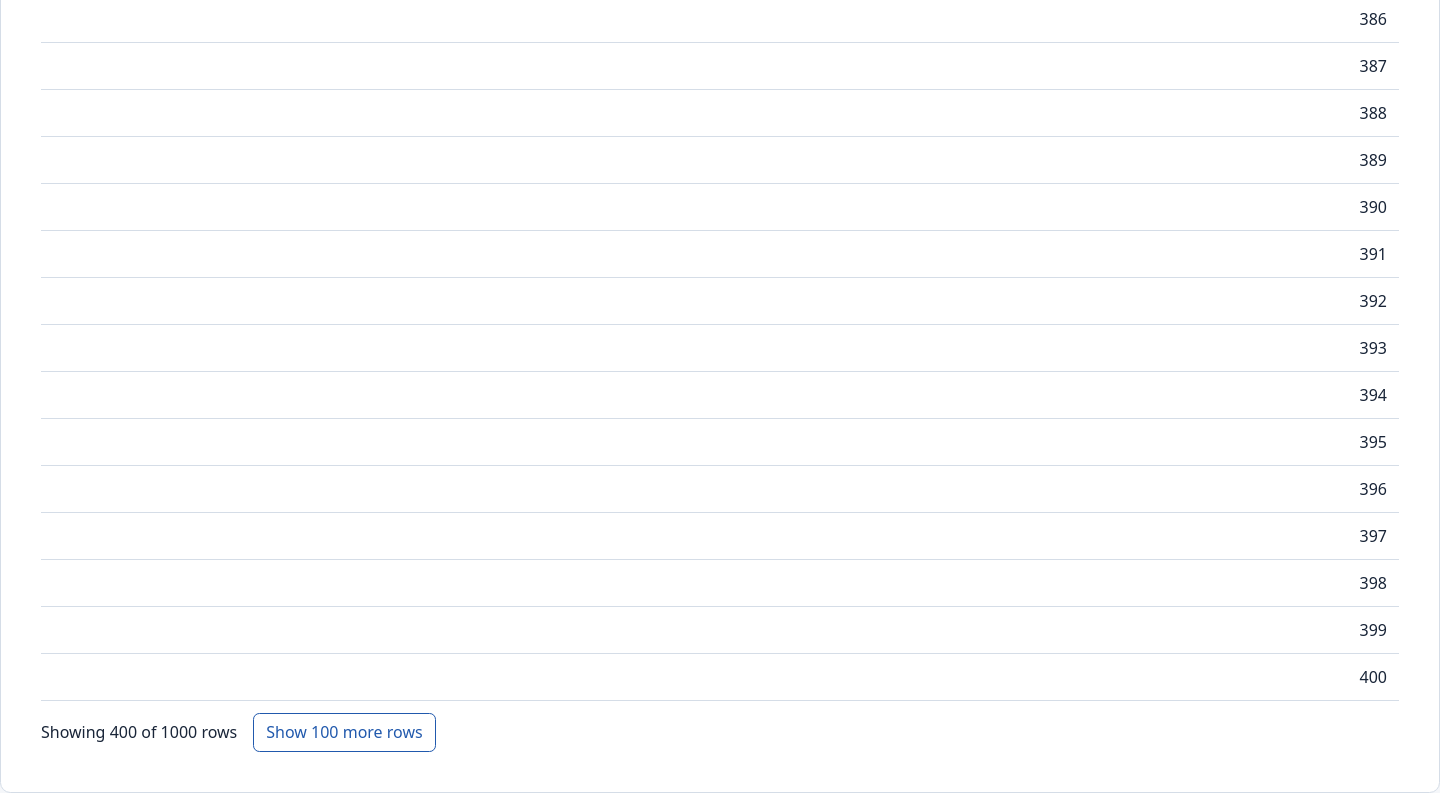
Test: table rendering › mounts just the requested batches up to the 1,000-row limit in file order
Earlier steps of the test are not shown.
(page scrolled)
Click the button "Show 100 more rows". click: (344, 732)
box: [253,713,436,752]
(page scrolled)
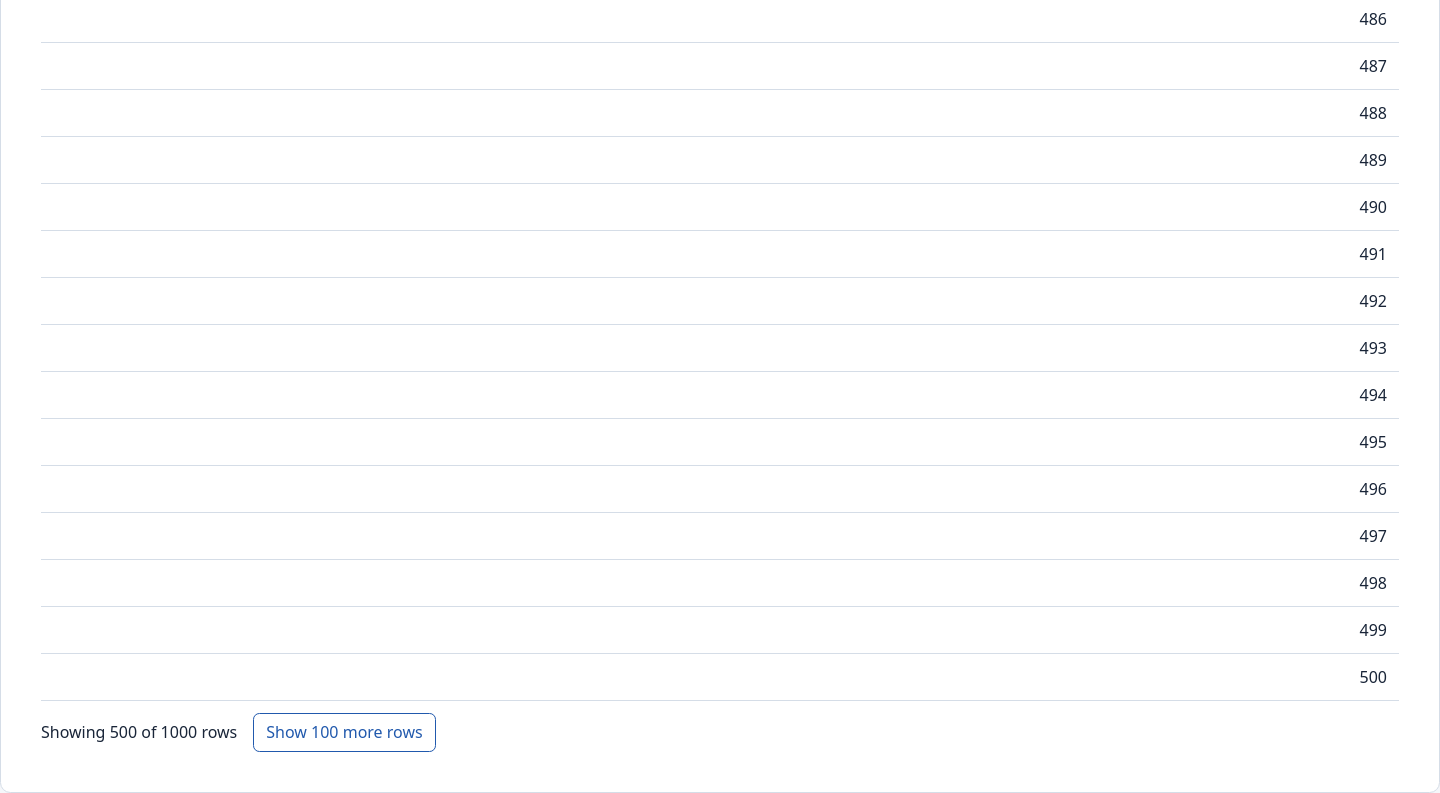
Click the button "Show 100 more rows". click: (344, 732)
box: [253,713,436,752]
(page scrolled)
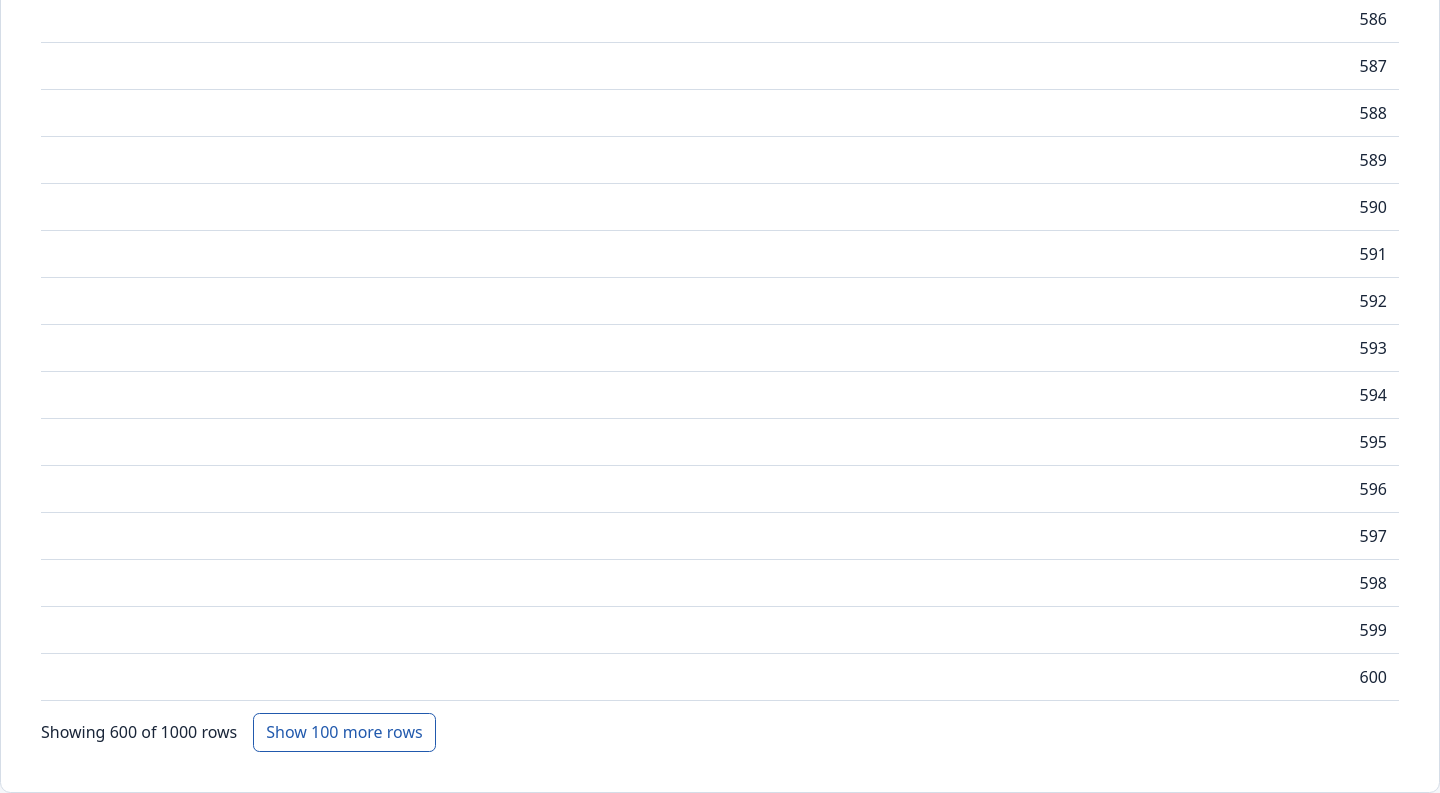
Click the button "Show 100 more rows". click: (344, 732)
box: [253,713,436,752]
(page scrolled)
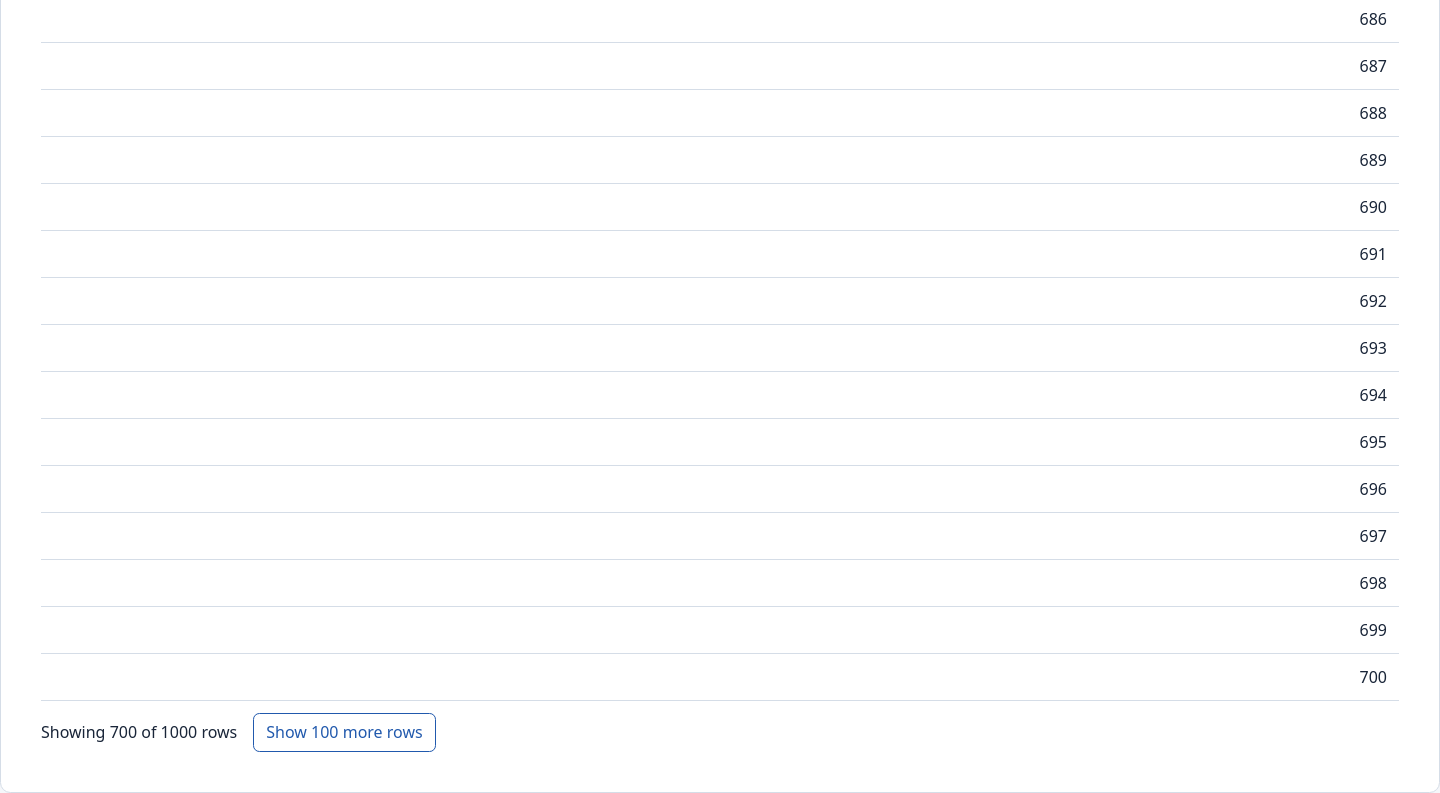
Click the button "Show 100 more rows". click: (344, 732)
box: [253,713,436,752]
(page scrolled)
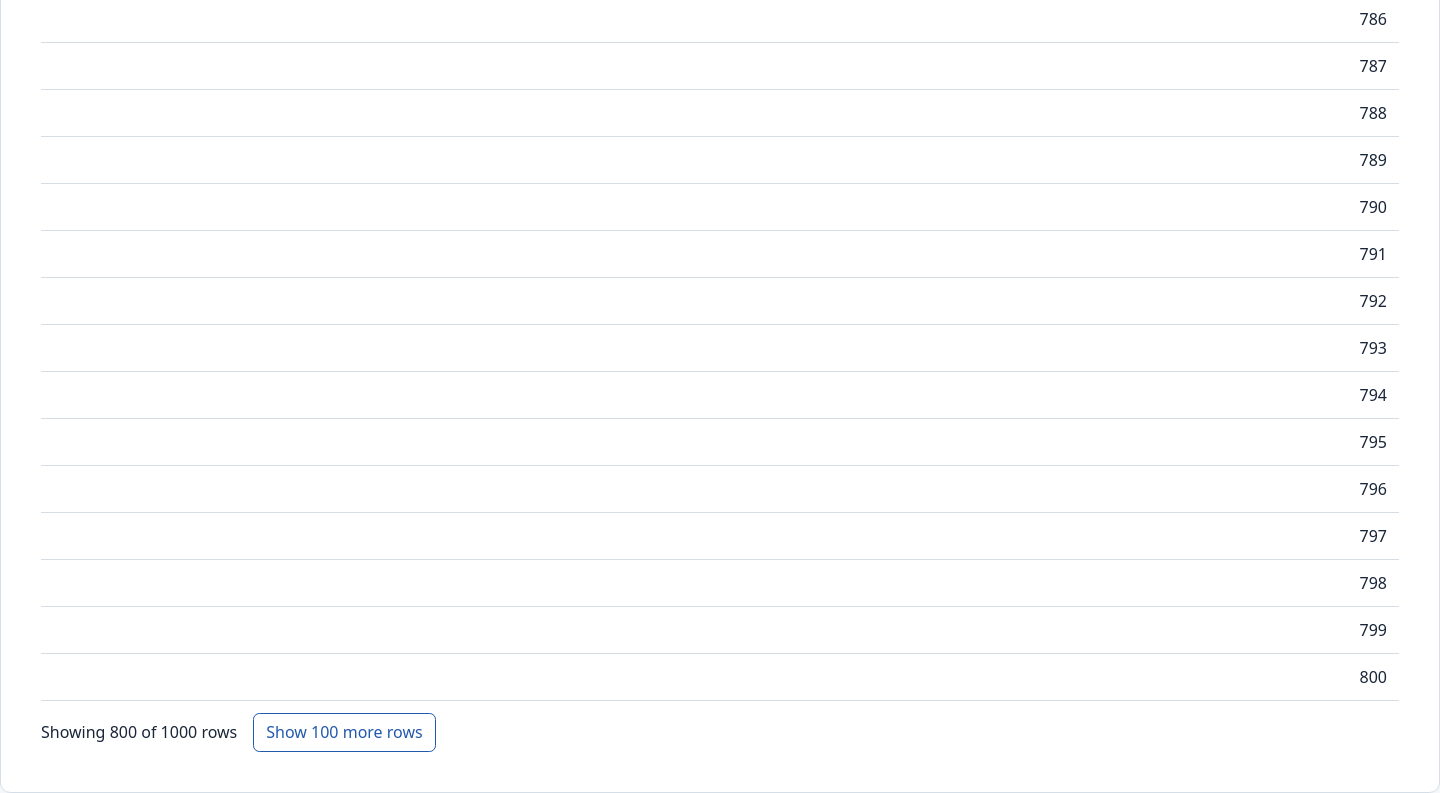
Click the button "Show 100 more rows". click: (344, 732)
box: [253,713,436,752]
(page scrolled)
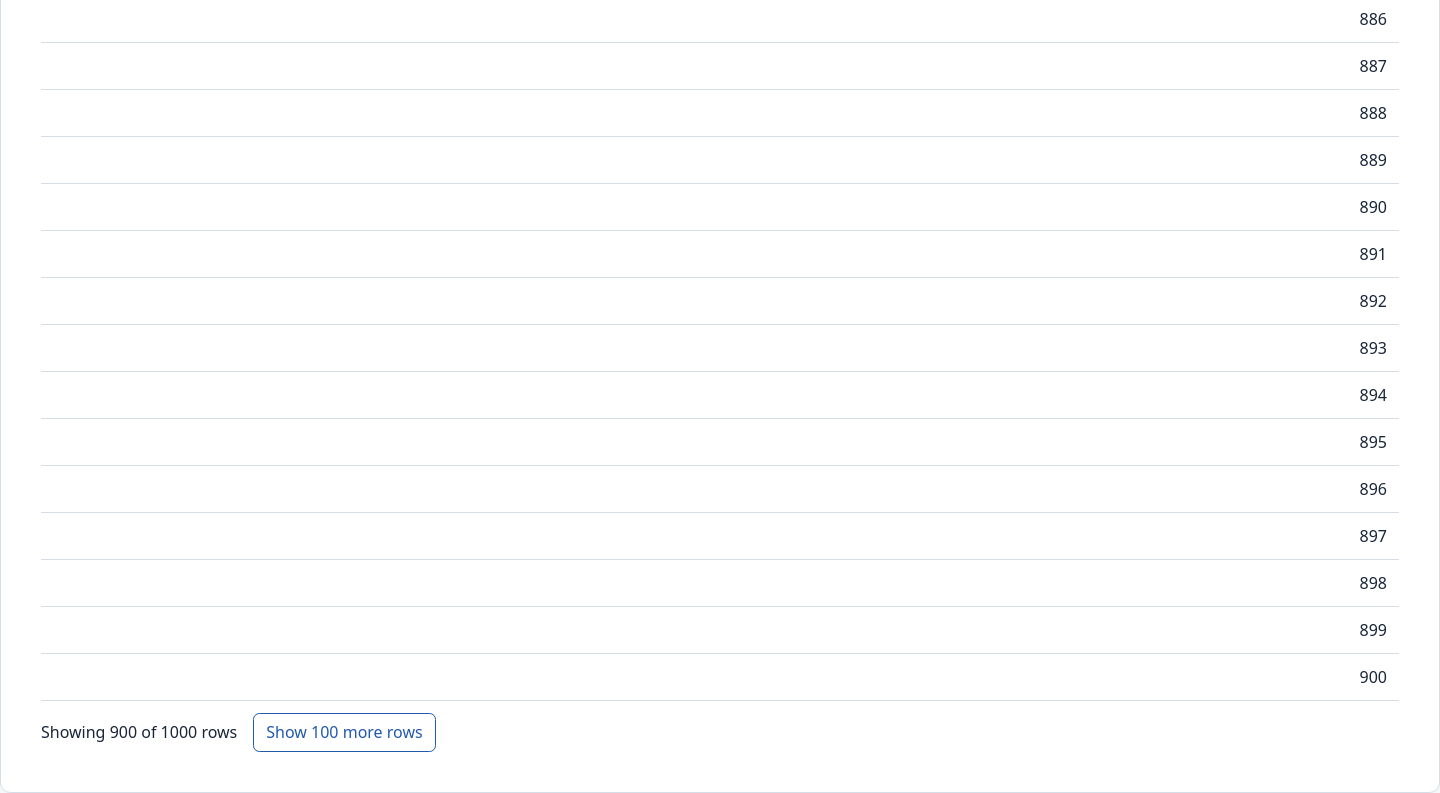
Click the button "Show 100 more rows". click: (344, 732)
box: [253,713,436,752]
(page scrolled)
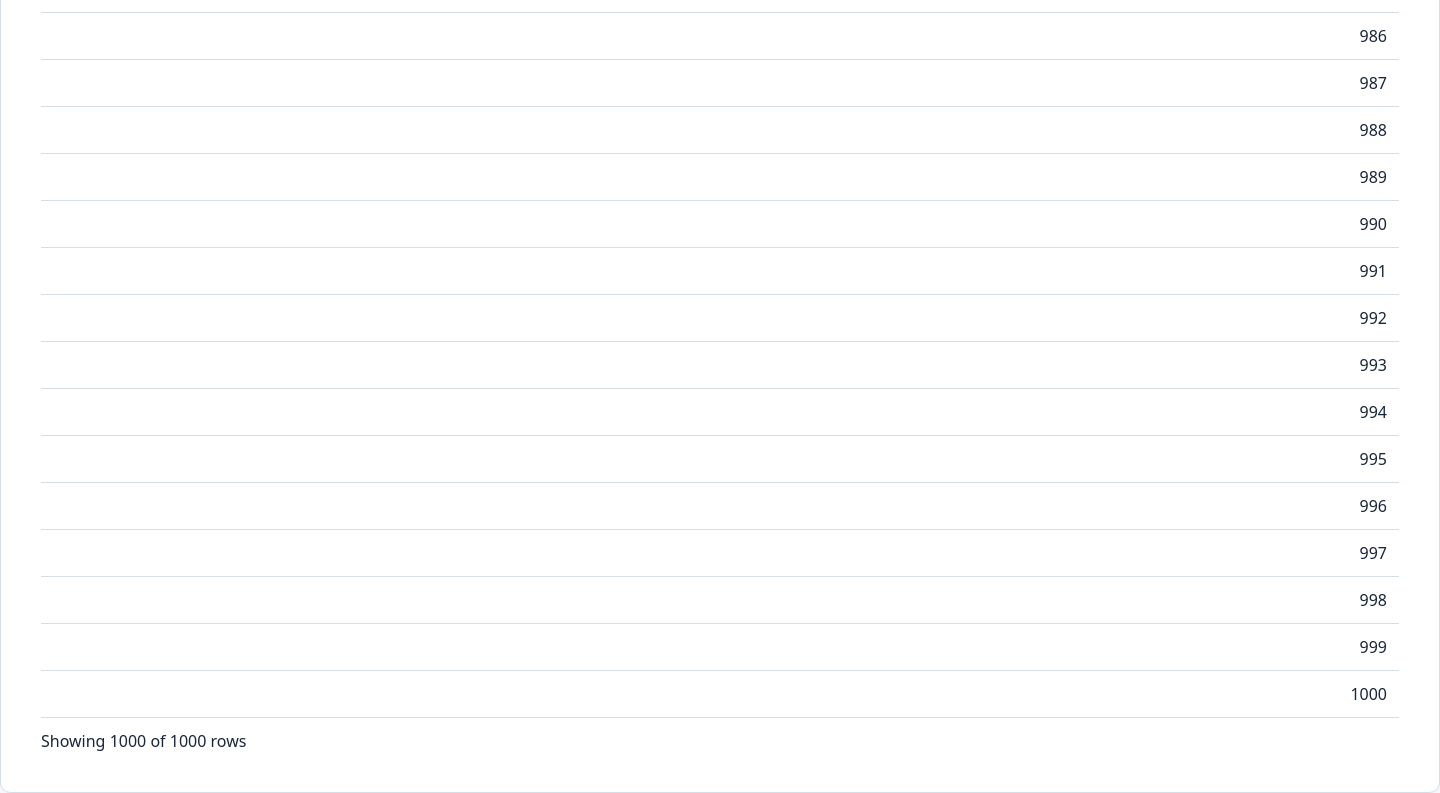
Expected: the button "more rows?" is gone
